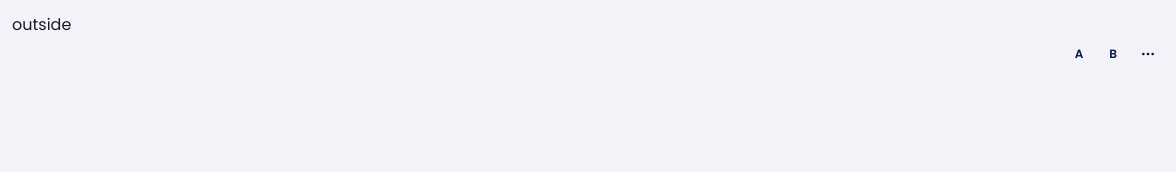
Test: RowActions › closes on a press outside
Click the button named "More actions": (1148, 54) [1132,38,1164,70]
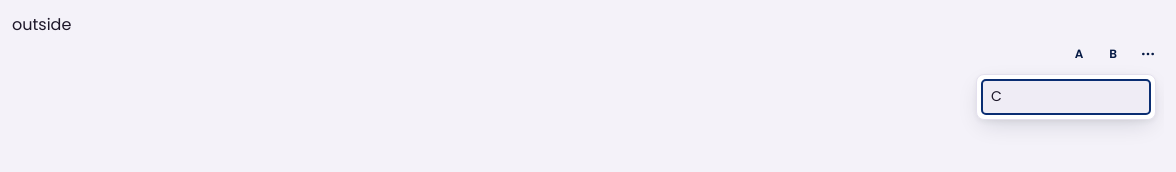
Expected: the menu is shown, [976,74,1156,120]
Press the mouse on the text "outside": (42, 24) [12,13,71,36]
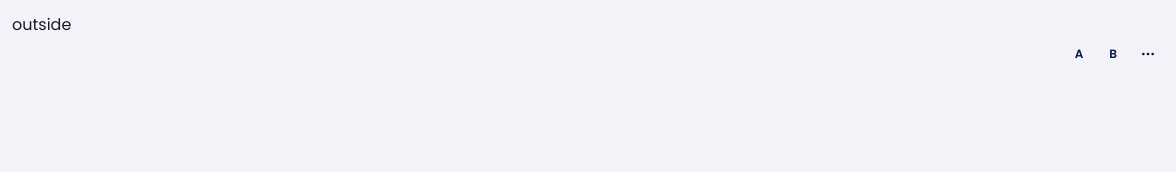
Expected: the menu is gone
